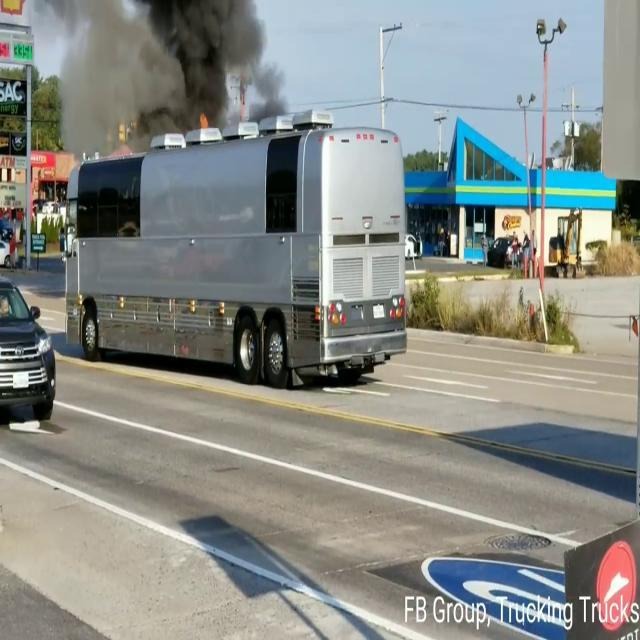Smoke: (51, 0, 292, 143)
